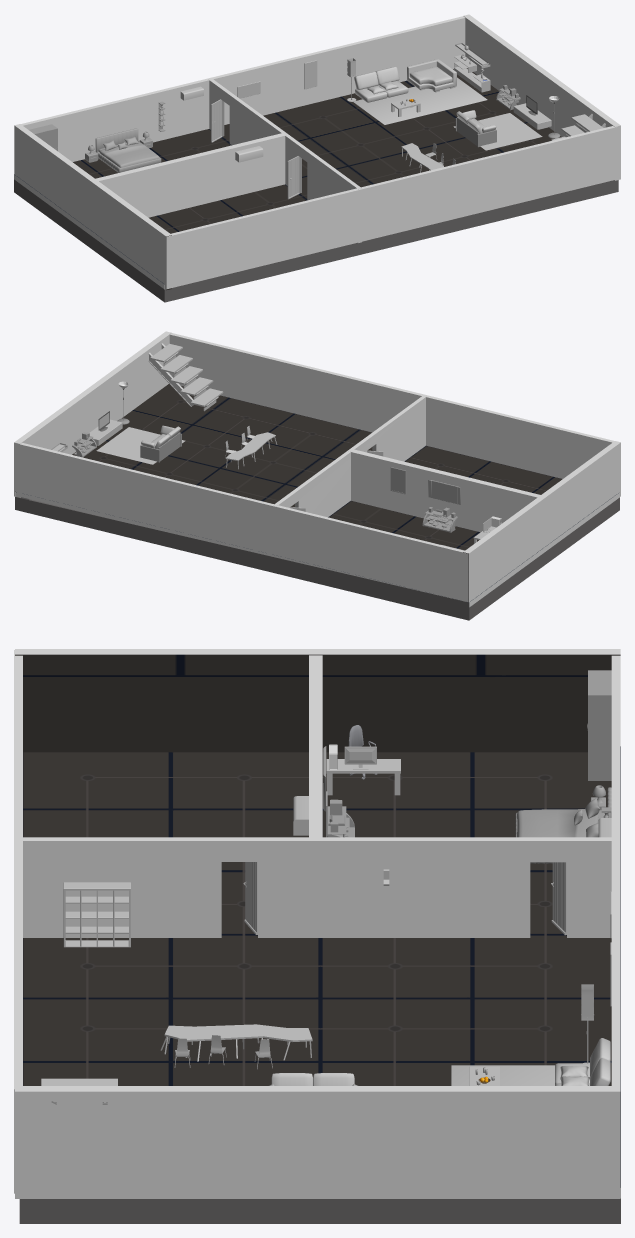
3 renders of one model, top to bottom at view 1: azimuth 30°, elevation 25°; view 2: azimuth 150°, elevation 25°; view 3: azimuth 270°, elevation 25°, orthographic. The views are drawn at different scales.
Parts seen in each view (by area): view 1: pCube1, pCube15, pCube3, pCube16, pCube5, pCube10, pCube20, carpet001, Carpet02, couch001_cushion, couch002, cabinet001 (+9 smaller); view 2: pCube1, pCube3, pCube15, pCube16, pCube5, pCube10, pCube20, staircase001, Carpet02, couch002, table_bar, bedroom_scene:Tv (+1 smaller); view 3: pCube1, pCube10, pCube16, pCube20, pCube3, pCube15, cabinet002, bedroom_scene:Box019, pCube5, table_bar, bedroom_scene:Object3046, carpet001 (+5 smaller).
Part boxes in pixels (bbox=[...]): pCube1: bbox=[14, 68, 618, 302]; pCube15: bbox=[166, 126, 617, 289]; pCube3: bbox=[21, 16, 465, 161]; pCube16: bbox=[14, 124, 171, 290]; pCube5: bbox=[95, 132, 287, 217]; pCube10: bbox=[463, 14, 620, 180]; pCube20: bbox=[208, 78, 361, 243]; carpet001: bbox=[353, 77, 487, 124]; Carpet02: bbox=[453, 113, 542, 150]; couch001_cushion: bbox=[354, 66, 408, 102]; couch002: bbox=[455, 110, 496, 147]; cabinet001: bbox=[454, 43, 490, 92]; pCube1: bbox=[15, 384, 619, 620]; pCube3: bbox=[17, 443, 468, 602]; pCube15: bbox=[169, 333, 614, 478]; pCube16: bbox=[463, 441, 620, 602]; pCube5: bbox=[348, 449, 540, 532]; pCube10: bbox=[14, 331, 171, 497]; pCube20: bbox=[273, 395, 426, 517]; staircase001: bbox=[148, 343, 223, 411]; Carpet02: bbox=[96, 427, 185, 464]; couch002: bbox=[140, 425, 181, 462]; table_bar: bbox=[225, 432, 277, 469]; bedroom_scene:Tv: bbox=[428, 480, 460, 504]; pCube1: bbox=[19, 746, 620, 1223]; pCube10: bbox=[15, 1086, 620, 1198]; pCube16: bbox=[15, 649, 620, 752]; pCube20: bbox=[18, 837, 619, 937]; pCube3: bbox=[611, 655, 620, 1085]; pCube15: bbox=[14, 650, 22, 1193]; cabinet002: bbox=[63, 882, 130, 947]; bedroom_scene:Box019: bbox=[588, 670, 611, 780]; pCube5: bbox=[309, 655, 322, 839]; table_bar: bbox=[160, 1024, 312, 1061]; bedroom_scene:Object3046: bbox=[517, 809, 607, 837]; carpet001: bbox=[451, 1065, 554, 1085].
Size of the model in its own units: 700 by 98.02 by 404.
